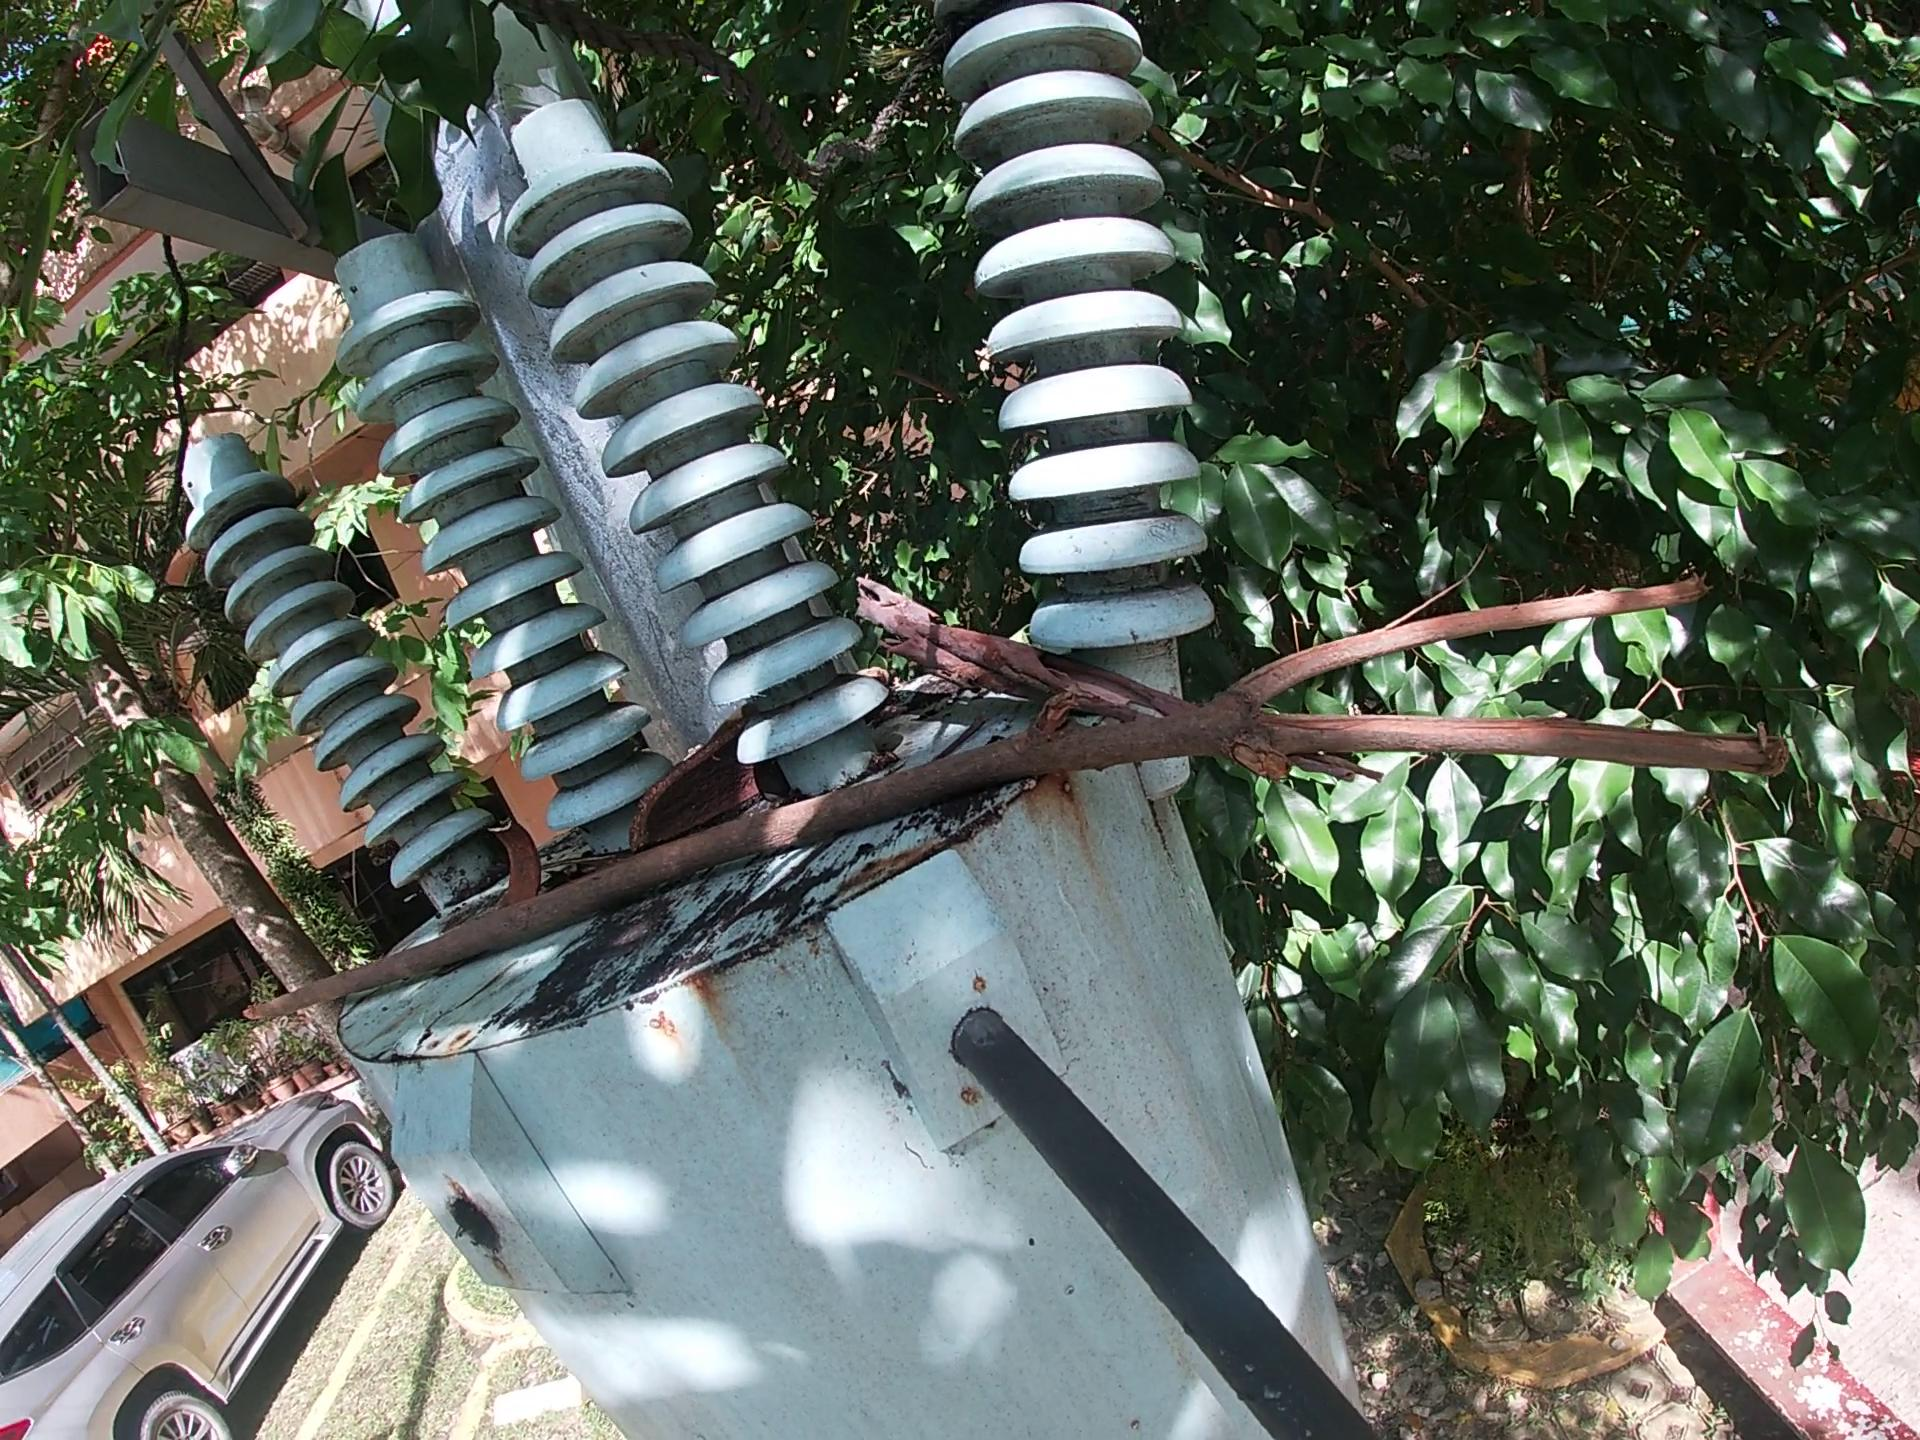mahogany fruit: (626, 703, 762, 861), (485, 812, 549, 917)
tree branch: (231, 558, 1805, 1030), (847, 567, 1400, 793)
